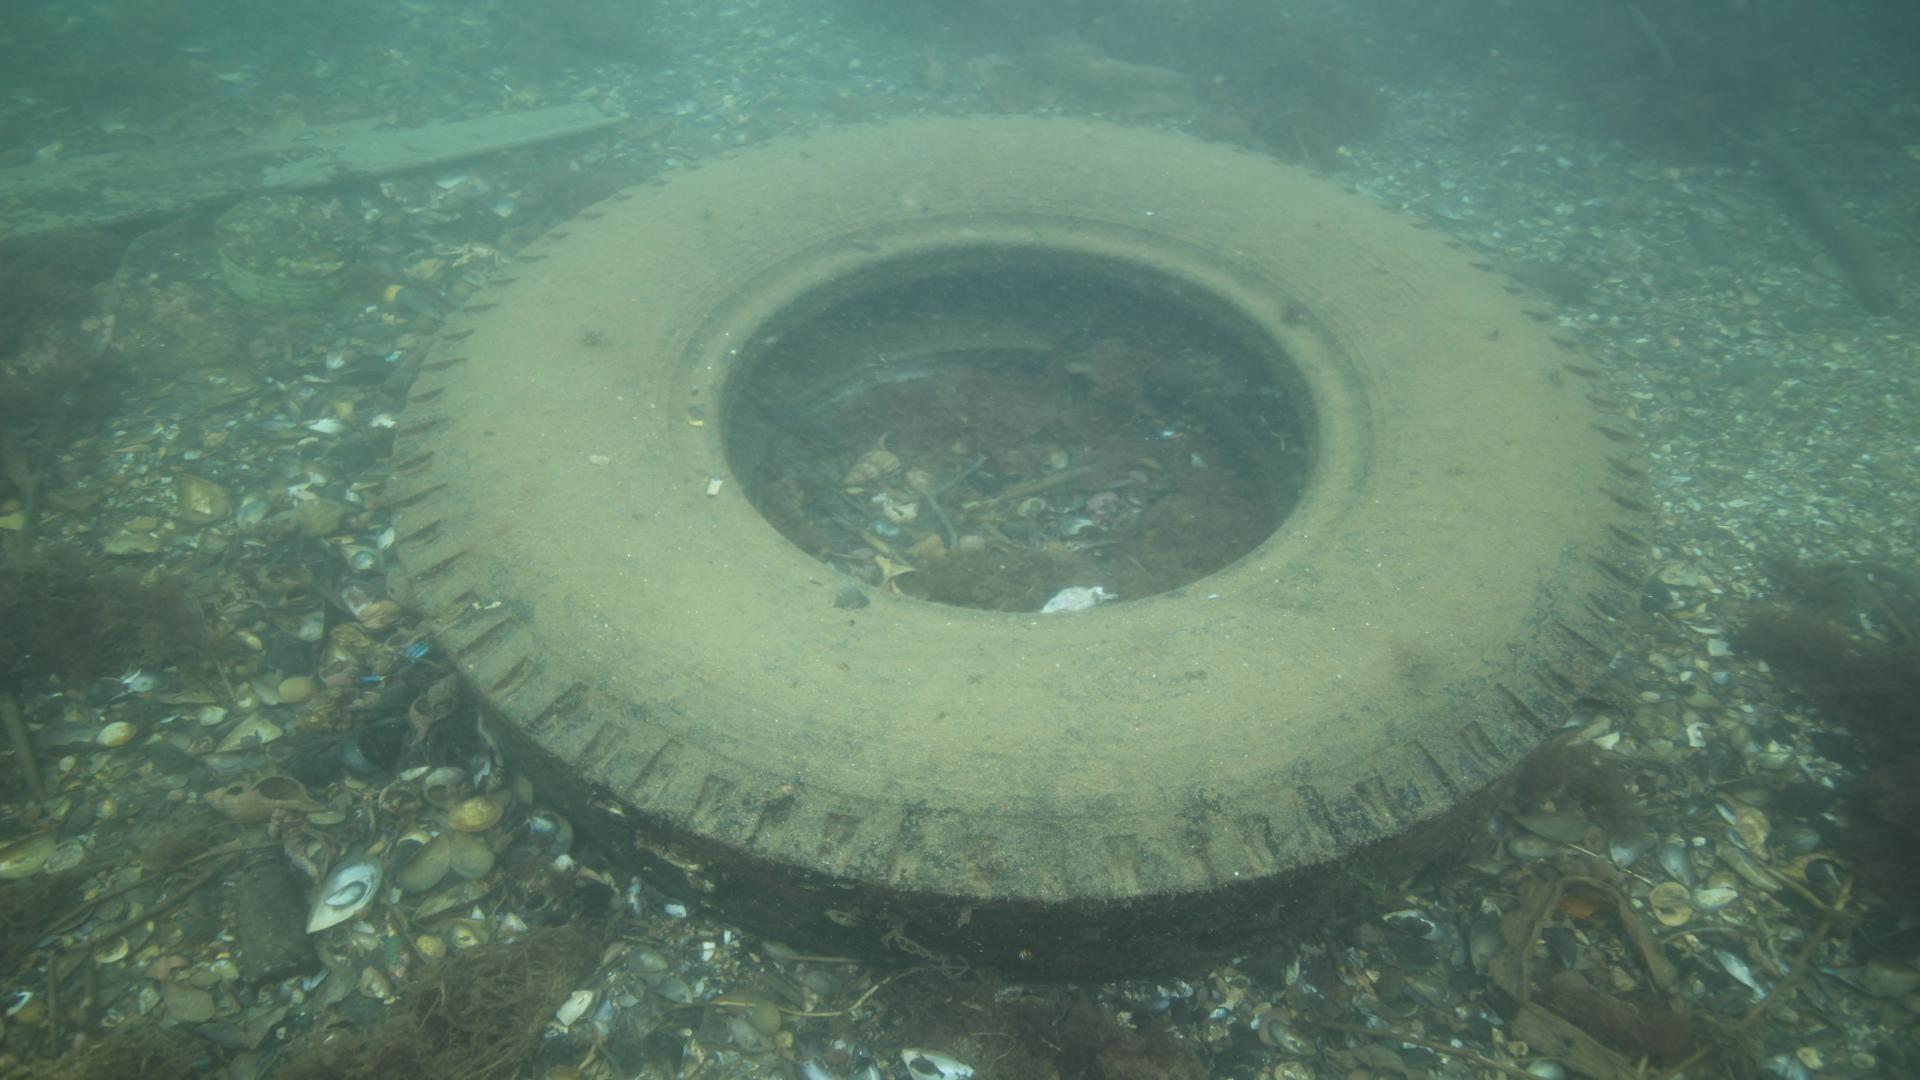tire: (384, 112, 1654, 986)
